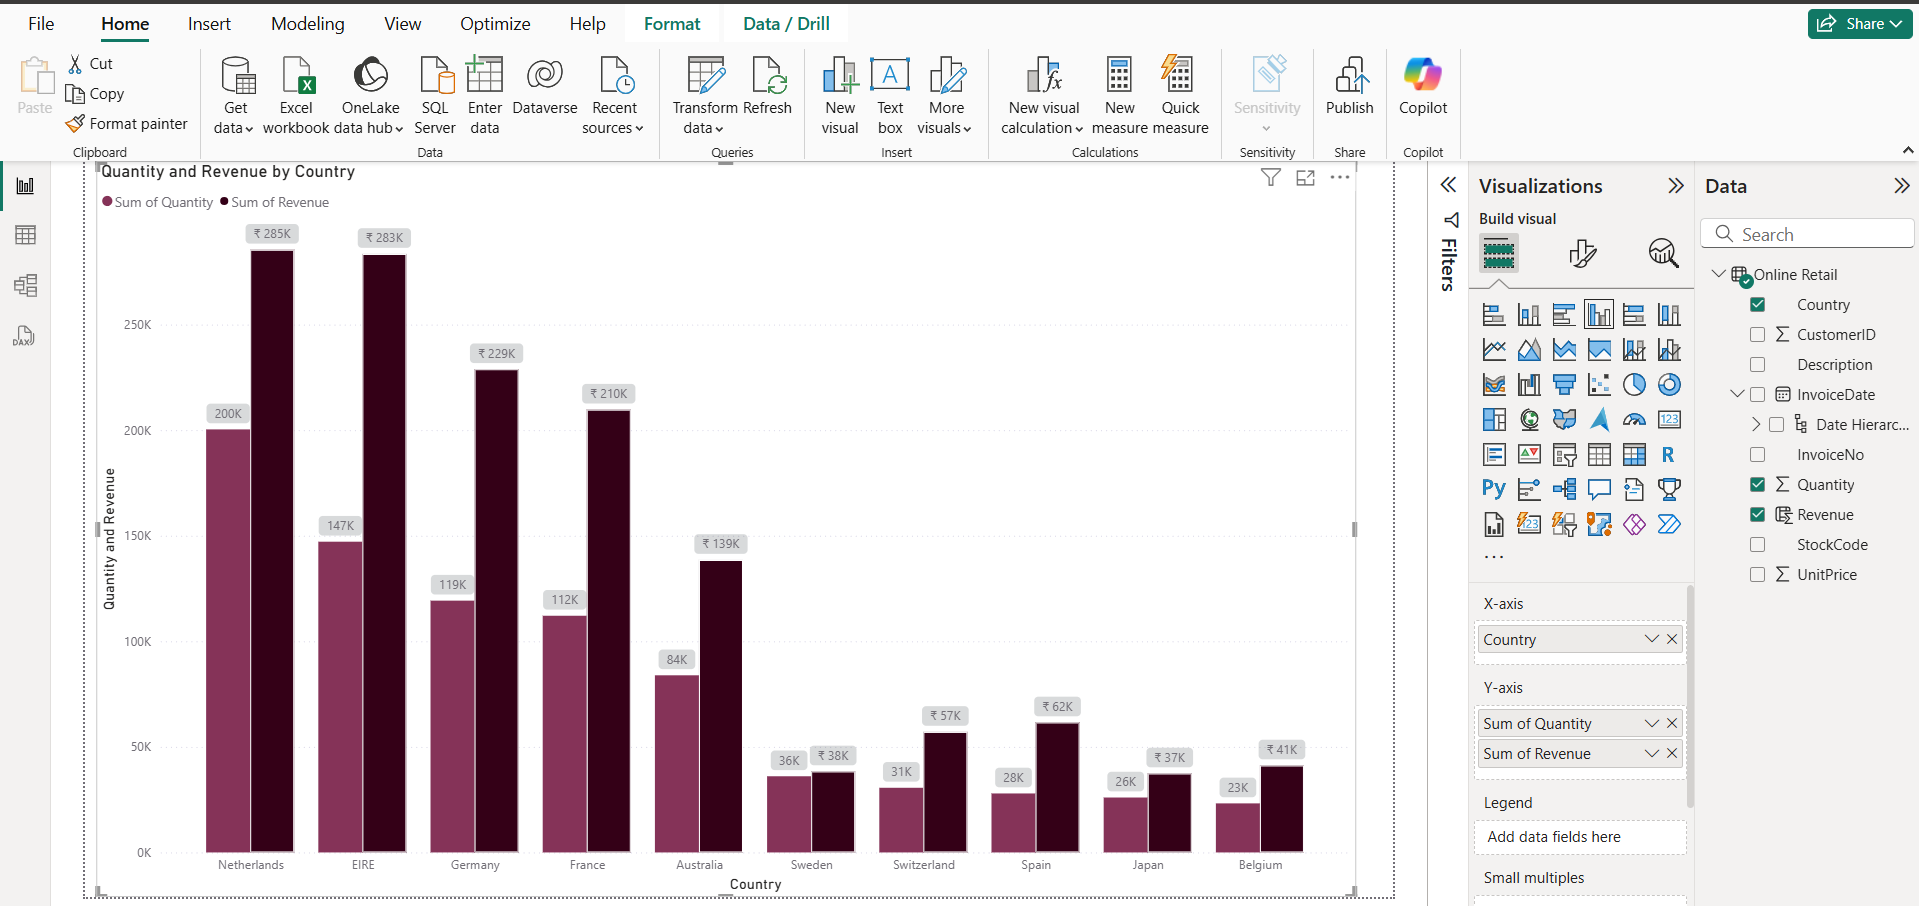

This screenshot's page, from the dashboard's own definition file:
{"tool":"powerbi","page":{"name":"Question 2","canvas":[1280,720],"ordinal":1},"visuals":[{"type":"clusteredColumnChart","title":"Quantity and Revenue by Country","fields":{"Category":["Online Retail.Country"],"Y":["Sum(Online Retail.Quantity)","Sum(Online Retail.Revenue)"]},"box":[10.8,0,1232.4,720.3],"z":0}]}

Visuals, with their boxes on the page's 1280x720 design canvas (x1, y1, x2, y2). These are canvas units, not pixel positions in the 1919x906 screenshot, which may show the page scaled, cropped or inside an application window:
"Quantity and Revenue by Country" clusteredColumnChart: (11,0,1243,720)
